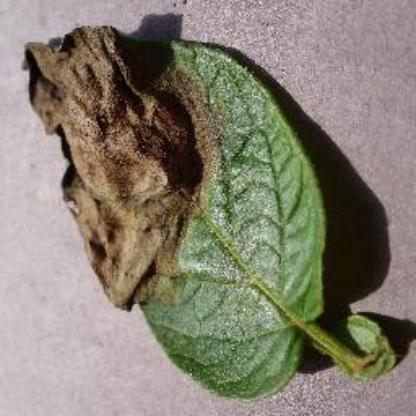Late-Blight: (14, 13, 402, 399)
